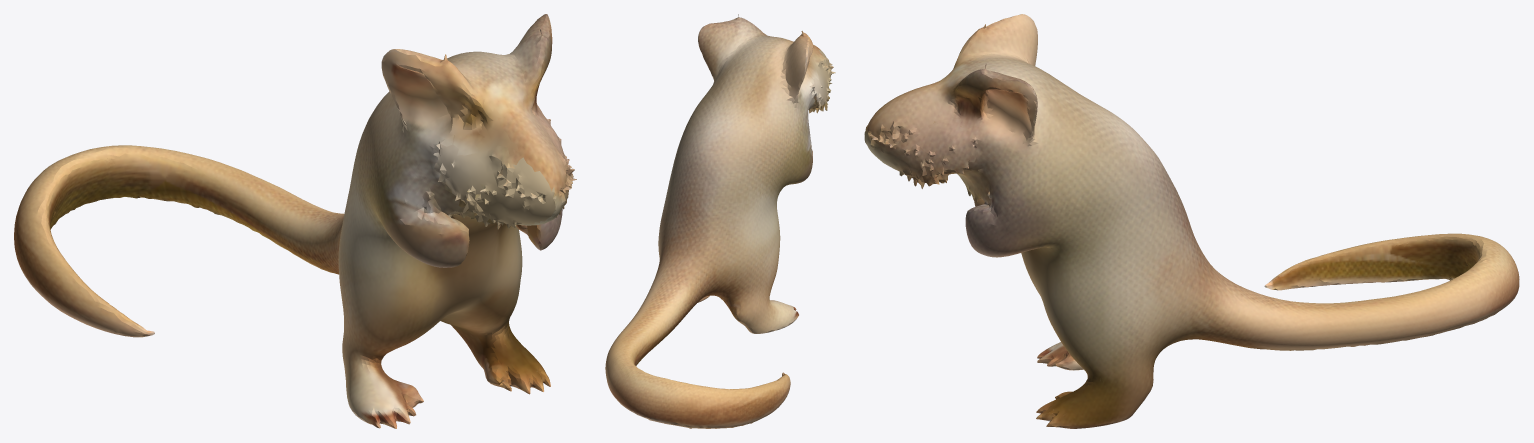
3 renders of one model, left to right at view 1: azimuth 30°, elevation 25°; view 2: azimuth 150°, elevation 25°; view 3: azimuth 270°, elevation 25°, orthographic. The views are drawn at different scales.
Visible parts, largest first — view 1: ScoutAhead; view 2: ScoutAhead; view 3: ScoutAhead.
Boxes of the visible parts, x1,y1,x2,y2 form: ScoutAhead: [14, 14, 576, 428]; ScoutAhead: [605, 14, 835, 428]; ScoutAhead: [864, 14, 1519, 428].
Size of the model in its own units: 0.9483 by 1.11 by 1.9.
Materials: 1 (1 with a texture image).
